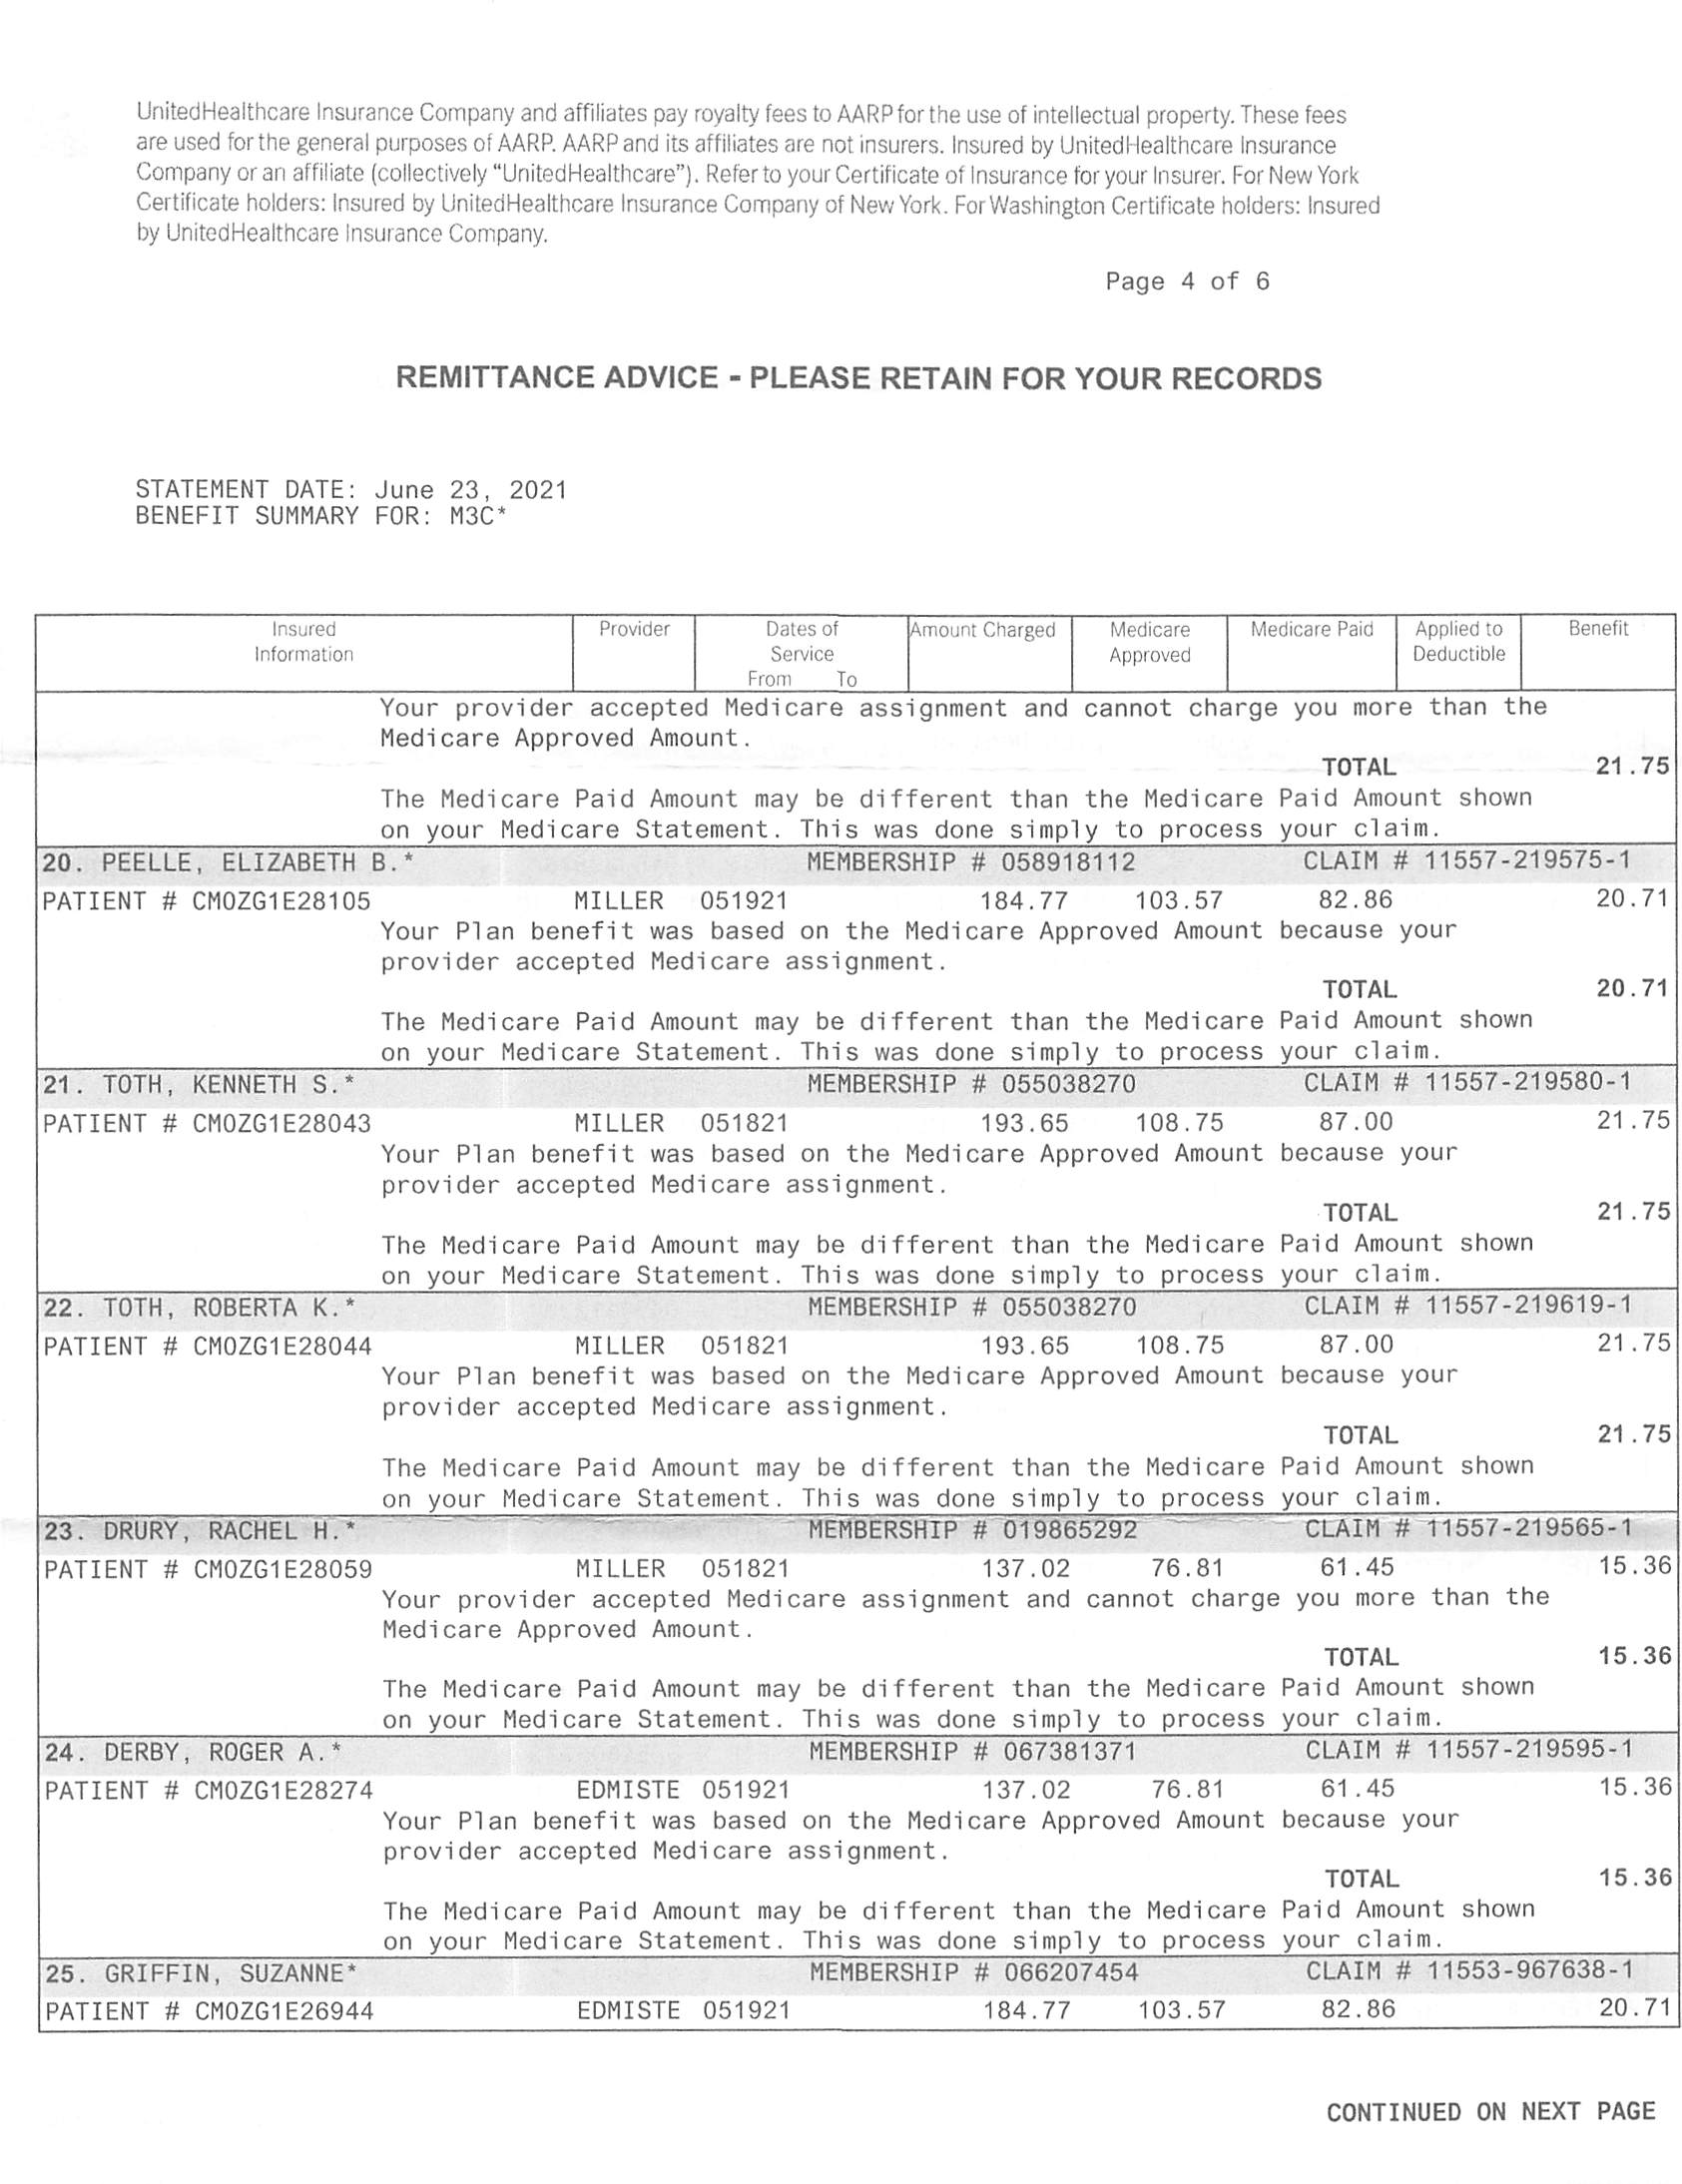table: (27, 594, 1682, 2050)
